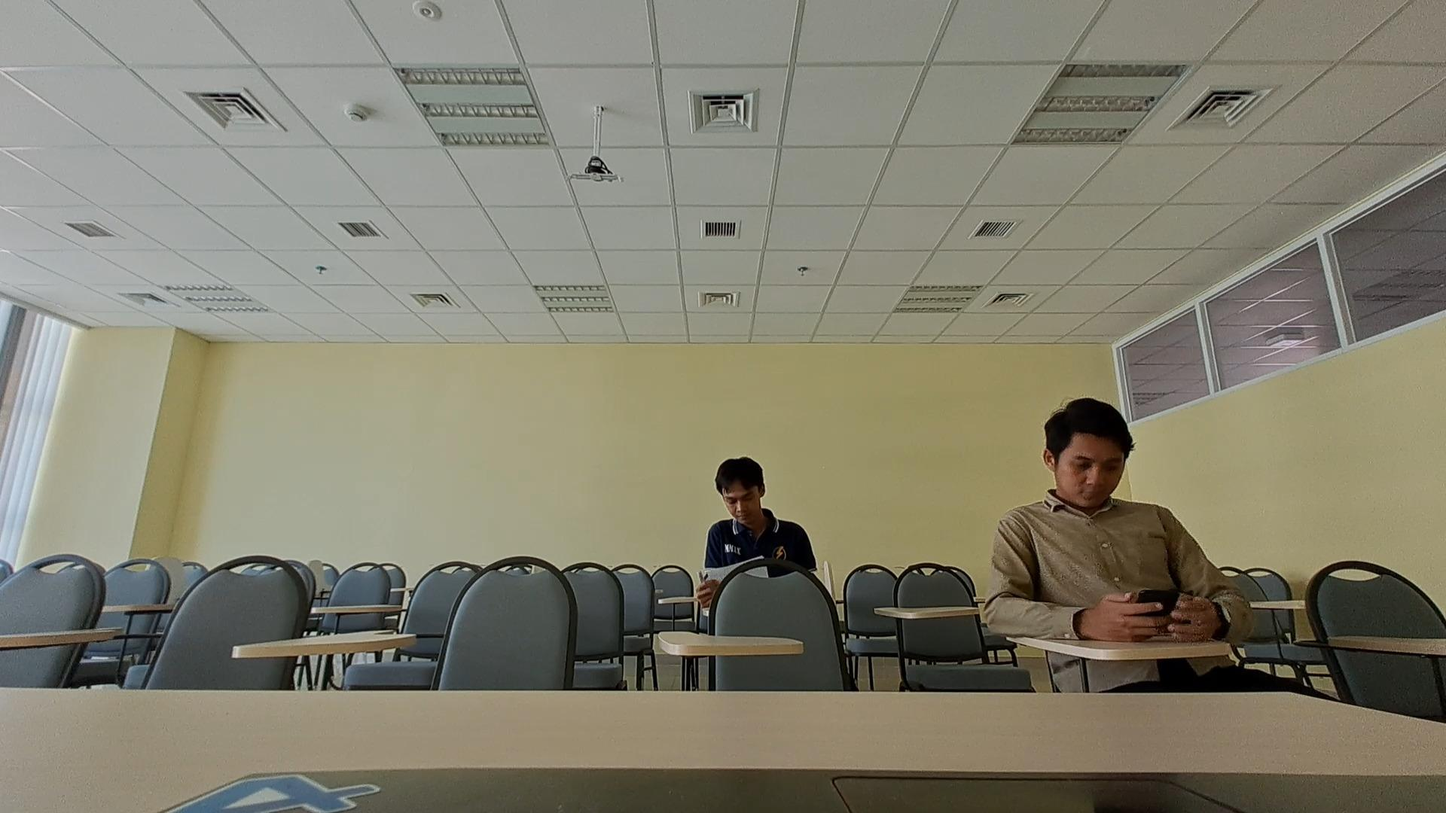phone: (983, 393, 1256, 646)
study: (693, 452, 832, 638)
